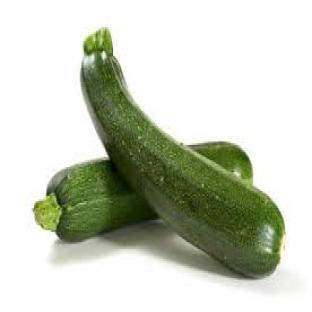Zucchini: (82, 29, 284, 277), (34, 159, 155, 242)
